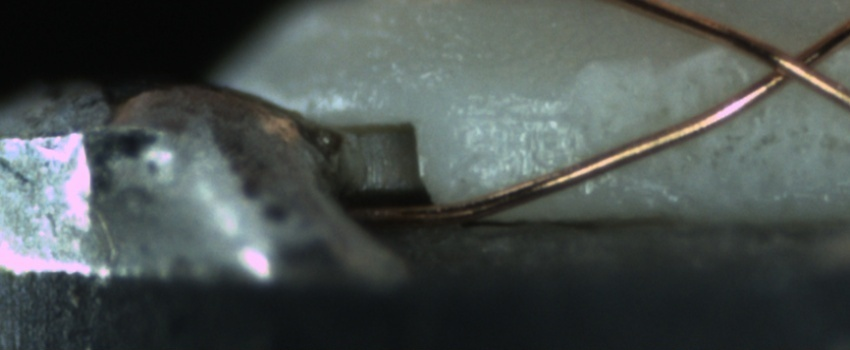CL: (744, 30, 839, 99)
DL: (448, 83, 574, 147)
